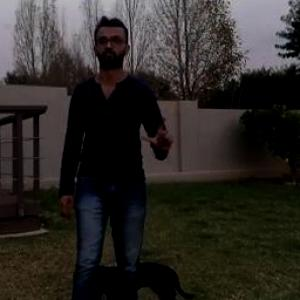land_hand: (139, 109, 177, 156)
